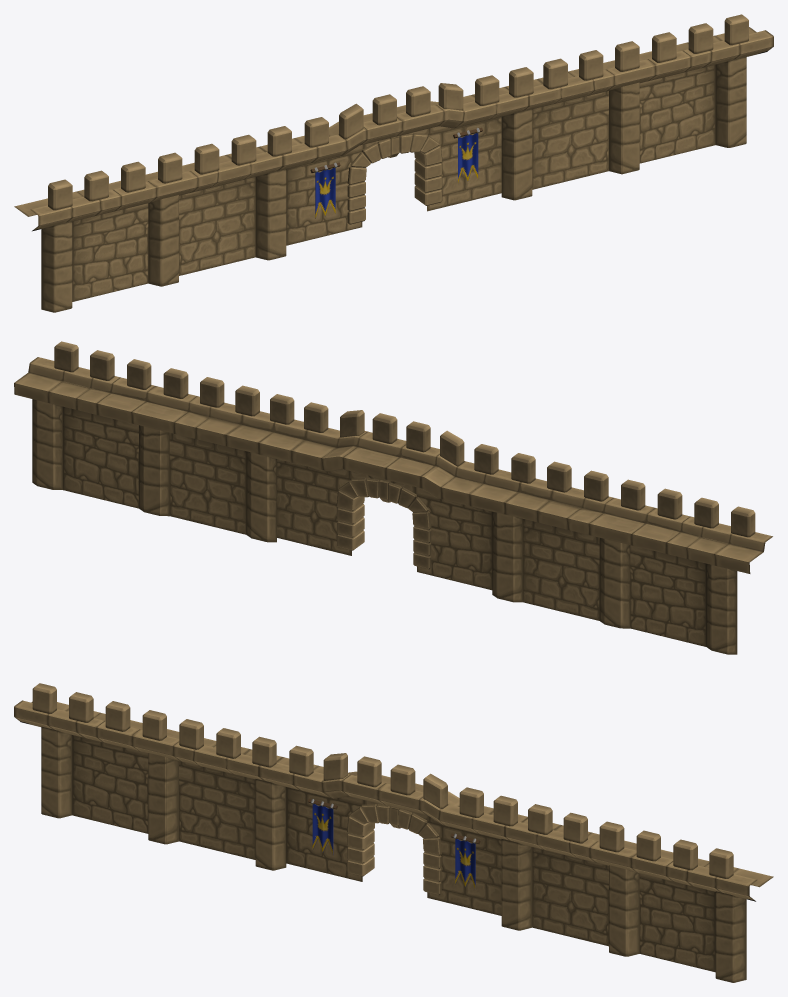
File: wallFront_model.glb
3 renders of one model, top to bottom at view 1: azimuth 30°, elevation 25°; view 2: azimuth 150°, elevation 25°; view 3: azimuth 330°, elevation 25°, orthographic.
Visible parts, largest first — view 1: wallFront_t2; view 2: wallFront_t2; view 3: wallFront_t2.
Boxes of the visible parts, bbox=[...] form: wallFront_t2: bbox=[14, 14, 773, 312]; wallFront_t2: bbox=[14, 341, 772, 654]; wallFront_t2: bbox=[14, 683, 773, 982].
Size of what is drawn, in the model's own units: 36.49 by 6.41 by 2.08.
Materials: 1 (1 with a texture image).
